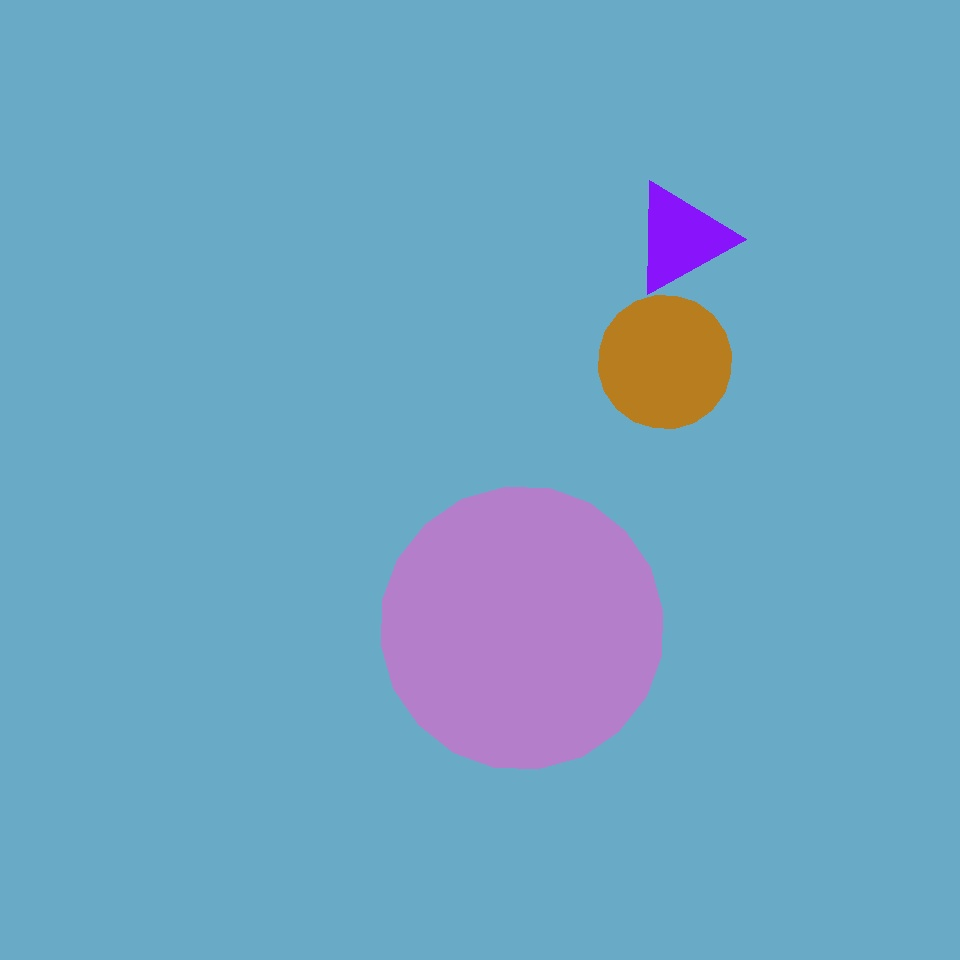circle: (258, 541, 398, 668), (396, 630, 529, 760), (632, 181, 730, 295)
square: (421, 564, 581, 723), (228, 260, 383, 416)
triangle: (191, 379, 500, 688), (381, 488, 662, 768), (599, 296, 732, 428), (366, 135, 487, 256)
